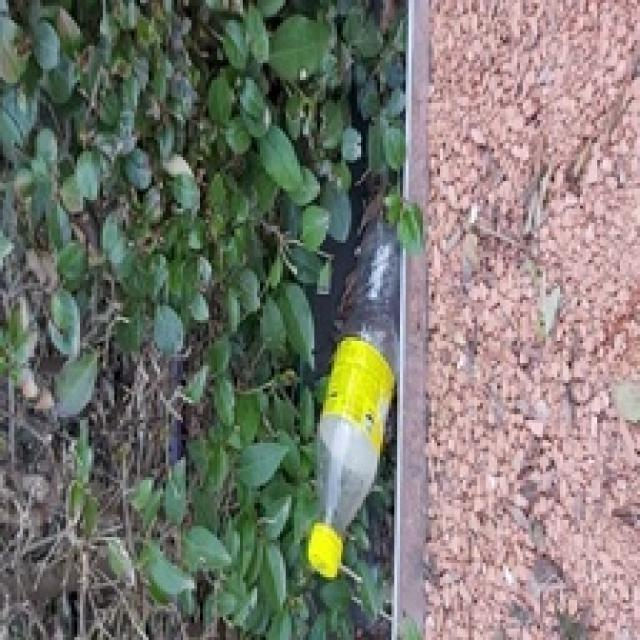Plastic: (308, 231, 400, 579)
